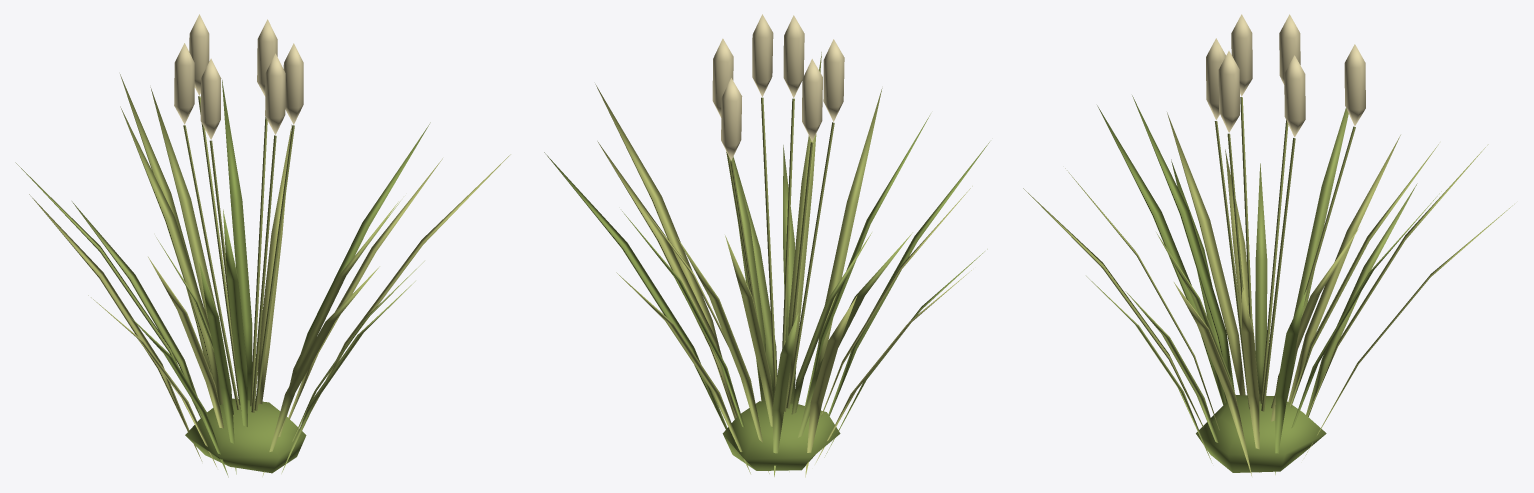
Rendered from grass.far.glb.
3 views of the same model, side by side, from view 1: azimuth 30°, elevation 25°; view 2: azimuth 150°, elevation 25°; view 3: azimuth 270°, elevation 25° (orthographic).
Parts seen in each view (by area): view 1: grass; view 2: grass; view 3: grass.
Part boxes in pixels (bbox=[...]): grass: bbox=[15, 14, 510, 477]; grass: bbox=[544, 14, 989, 477]; grass: bbox=[1023, 14, 1514, 475].
Bounding box in the file's own units: 1.22 × 1.21 × 1.28.
